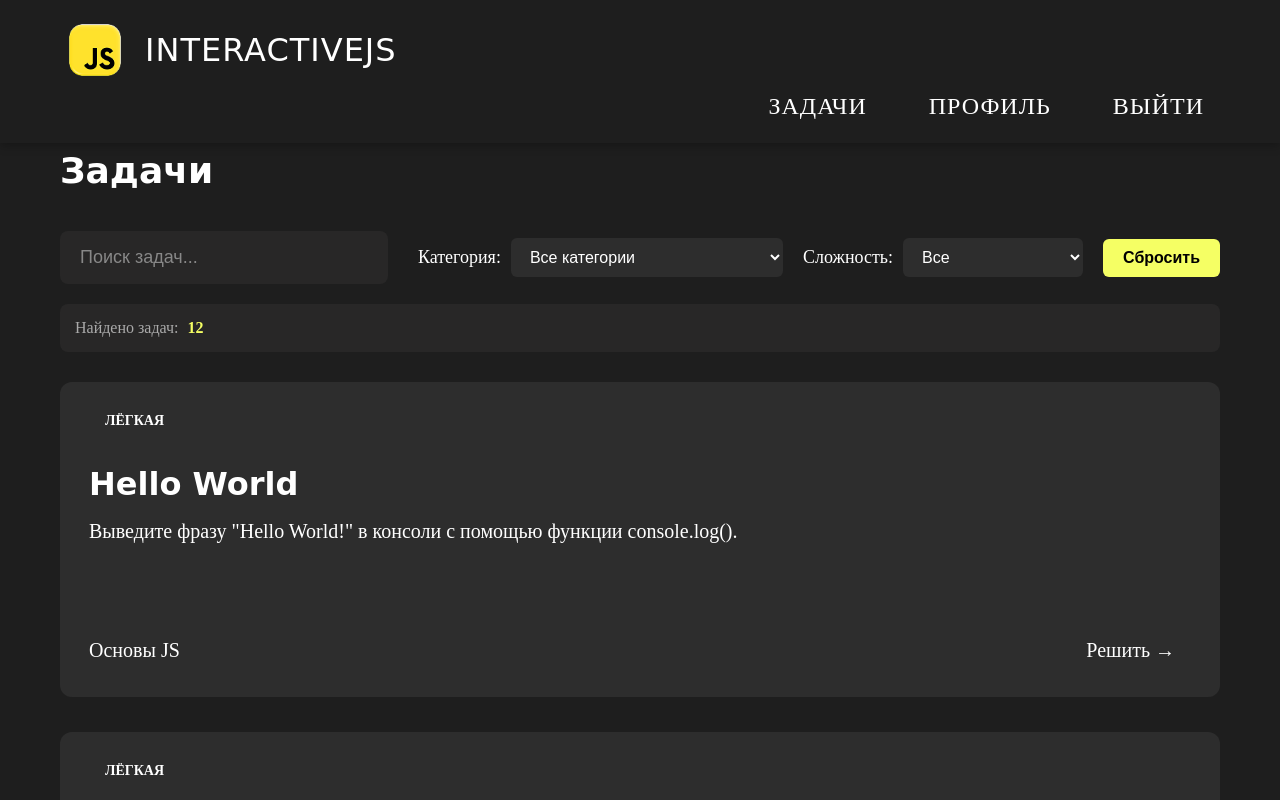
TasksPageView - фильтры › Поиск по фильтру easy оставляет только лёгкие задачи
Select "Лёгко" in the dropdown with class "filter-select" next to "Сложность:": {"x": 993, "y": 258} 903,238 -> 1083,277
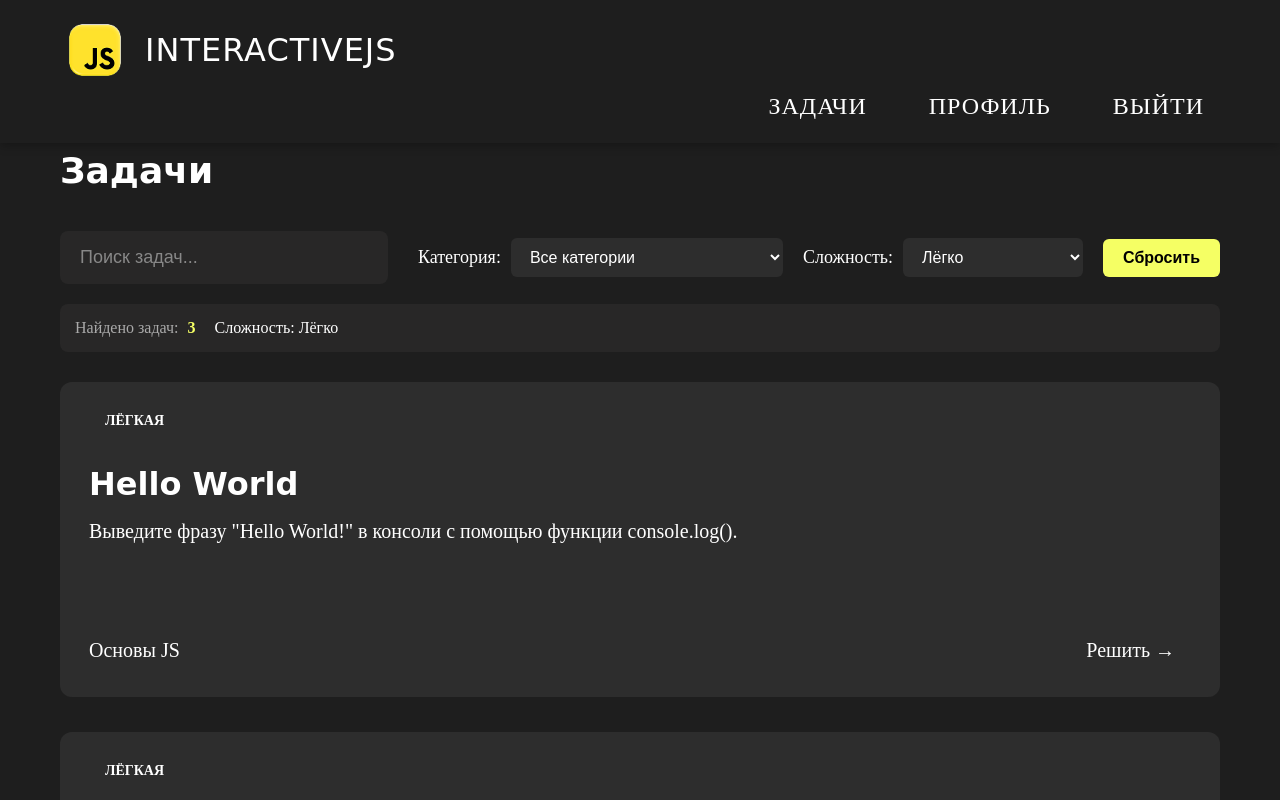
Check: the text "Найдено задач: 3" is shown, box 75,319 -> 338,336
